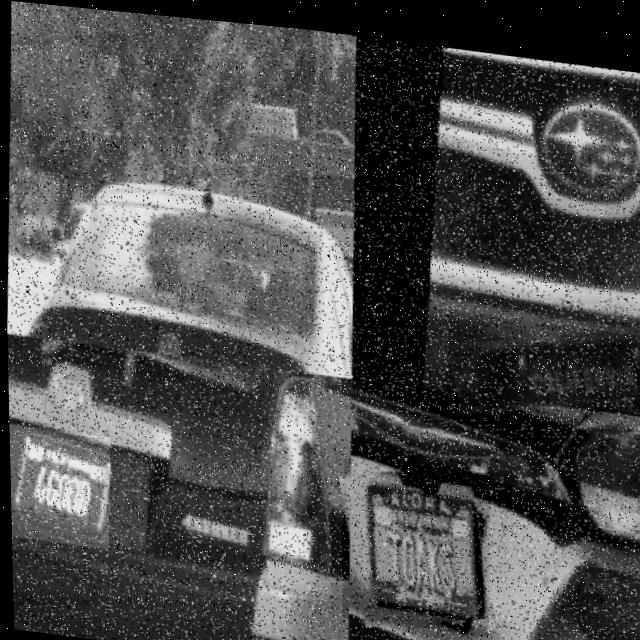LicensePlate: (336, 449, 491, 627), (443, 300, 640, 414), (7, 423, 109, 547)
